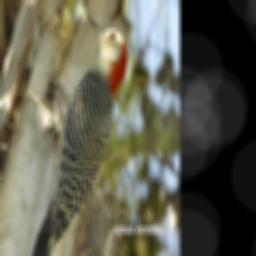Woodpecker: (27, 16, 131, 256)
